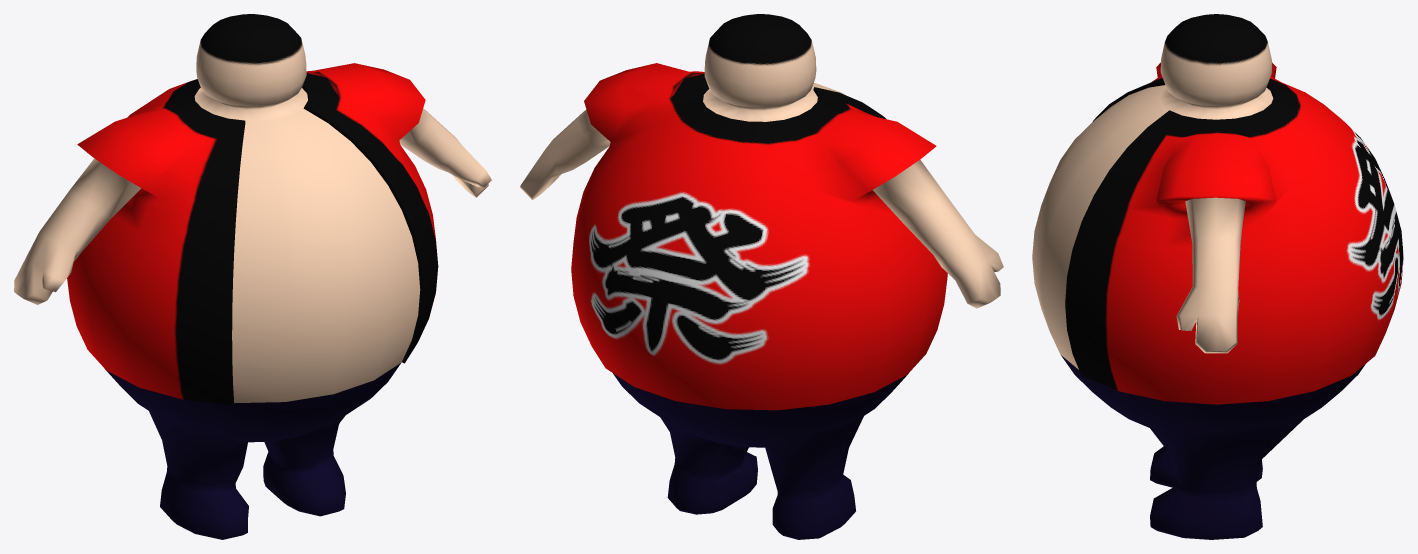
The model's file is Player.fbx.
3 views of the same model, side by side, from view 1: azimuth 30°, elevation 25°; view 2: azimuth 150°, elevation 25°; view 3: azimuth 270°, elevation 25° (orthographic).
Visible parts, largest first — view 1: pSphere5; view 2: pSphere5; view 3: pSphere5.
Part boxes in pixels (box(x1,y1,x2,y2)): pSphere5: box(14, 14, 491, 539); pSphere5: box(520, 14, 1003, 539); pSphere5: box(1032, 14, 1403, 539).
Bounding box in the file's own units: 11.68 × 11.51 × 8.07.
